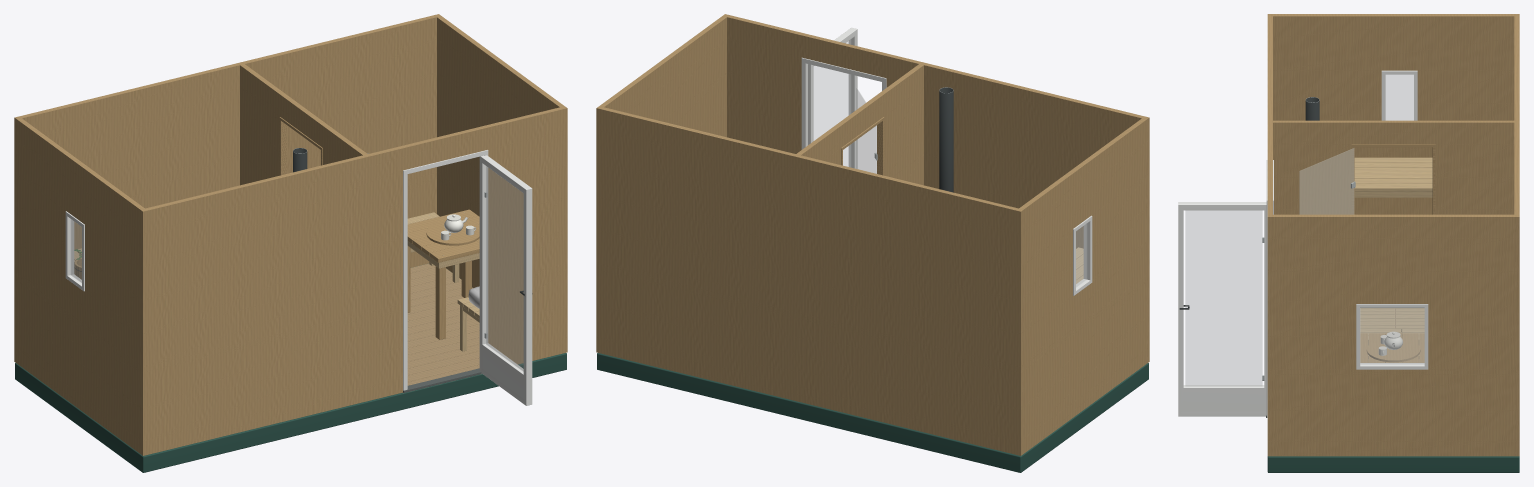
3 views of the same model, side by side, from view 1: azimuth 30°, elevation 25°; view 2: azimuth 150°, elevation 25°; view 3: azimuth 270°, elevation 25° (orthographic). The views are drawn at different scales.
Parts seen in each view (by area): view 1: DP01-W01, DP01-W02, DP01-W03, Hinge_DP01-D02, DP01-W04, Dimensioned foundation, DP01-W05, Floor lounge, С1 table, Door entry p1_i672, Window p1_i739, Л2 bench (+1 smaller); view 2: DP01-W02, DP01-W01, DP01-W03, Dimensioned foundation, DP01-W04, DP01-W05, Hinge_DP01-D02, ASTON dimensioned stove and remote firebox, Window p1_i739, Door entry p1_i672, Hinge_DP01-D01, Door steam p1_i671; view 3: DP01-W04, DP01-W03, Hinge_DP01-D02, DP01-W05, Window p1_i742, Dimensioned foundation, Hinge_DP01-D01, ВП2 upper, DP01-W02, DP01-W01, С1 table, Window p1_i739 (+4 smaller).
Boxes of the visible parts, x1=… form: DP01-W01: x1=140, y1=106, x2=567, y2=455; DP01-W02: x1=14, y1=14, x2=440, y2=363; DP01-W03: x1=17, y1=118, x2=144, y2=453; Hinge_DP01-D02: x1=479, y1=155, x2=532, y2=405; DP01-W04: x1=437, y1=16, x2=564, y2=287; Dimensioned foundation: x1=15, y1=353, x2=566, y2=472; DP01-W05: x1=240, y1=64, x2=367, y2=185; Floor lounge: x1=407, y1=263, x2=479, y2=385; С1 table: x1=407, y1=209, x2=479, y2=339; Door entry p1_i672: x1=403, y1=150, x2=488, y2=392; Window p1_i739: x1=65, y1=211, x2=84, y2=291; Л2 bench: x1=457, y1=286, x2=479, y2=351; DP01-W02: x1=596, y1=106, x2=1023, y2=455; DP01-W01: x1=723, y1=14, x2=1149, y2=363; DP01-W03: x1=1019, y1=118, x2=1146, y2=453; Dimensioned foundation: x1=597, y1=353, x2=1148, y2=472; DP01-W04: x1=599, y1=16, x2=726, y2=137; DP01-W05: x1=796, y1=64, x2=923, y2=185; Hinge_DP01-D02: x1=808, y1=27, x2=857, y2=168; ASTON dimensioned stove and remote firebox: x1=939, y1=87, x2=953, y2=192; Window p1_i739: x1=1073, y1=215, x2=1092, y2=295; Door entry p1_i672: x1=801, y1=57, x2=886, y2=149; Hinge_DP01-D01: x1=856, y1=87, x2=876, y2=173; Door steam p1_i671: x1=841, y1=117, x2=884, y2=175; DP01-W04: x1=1273, y1=214, x2=1514, y2=456; DP01-W03: x1=1273, y1=14, x2=1514, y2=214; Hinge_DP01-D02: x1=1178, y1=202, x2=1266, y2=416; DP01-W05: x1=1273, y1=120, x2=1514, y2=214; Window p1_i742: x1=1356, y1=304, x2=1428, y2=369; Dimensioned foundation: x1=1267, y1=456, x2=1519, y2=472; Hinge_DP01-D01: x1=1299, y1=148, x2=1355, y2=214; ВП2 upper: x1=1354, y1=157, x2=1432, y2=191; DP01-W02: x1=1514, y1=14, x2=1519, y2=456; DP01-W01: x1=1267, y1=14, x2=1272, y2=456; С1 table: x1=1360, y1=331, x2=1424, y2=362; Window p1_i739: x1=1381, y1=70, x2=1417, y2=120.
Size of the model in its own units: 4.02 by 2.36 by 2.84.
29 materials, 10 textured.
